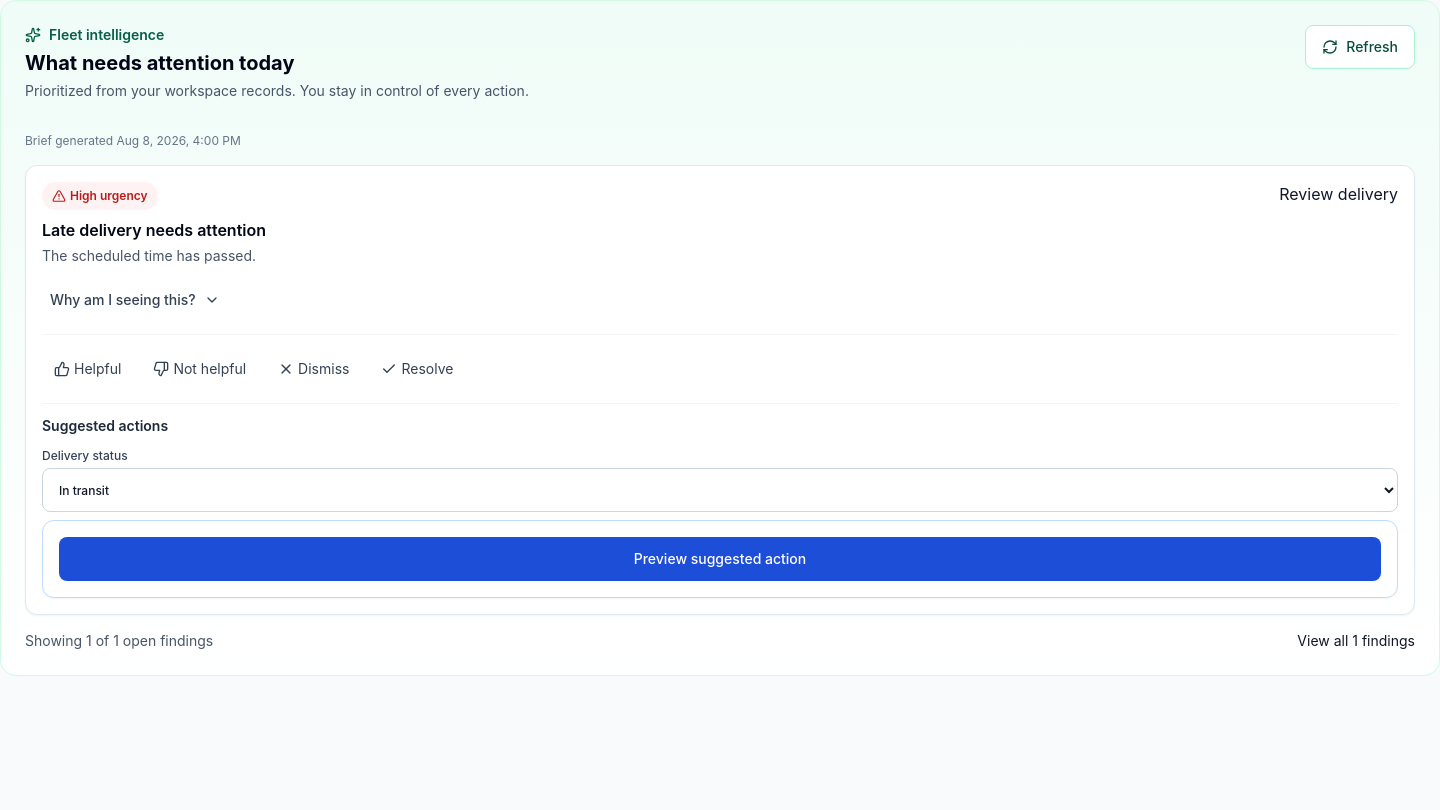
Test: IntelligenceBrief › records helpful feedback without duplicate actions
Click the button with aria-label "Mark Late delivery needs attention helpful": {"x": 88, "y": 369} x1=42 y1=347 x2=133 y2=391
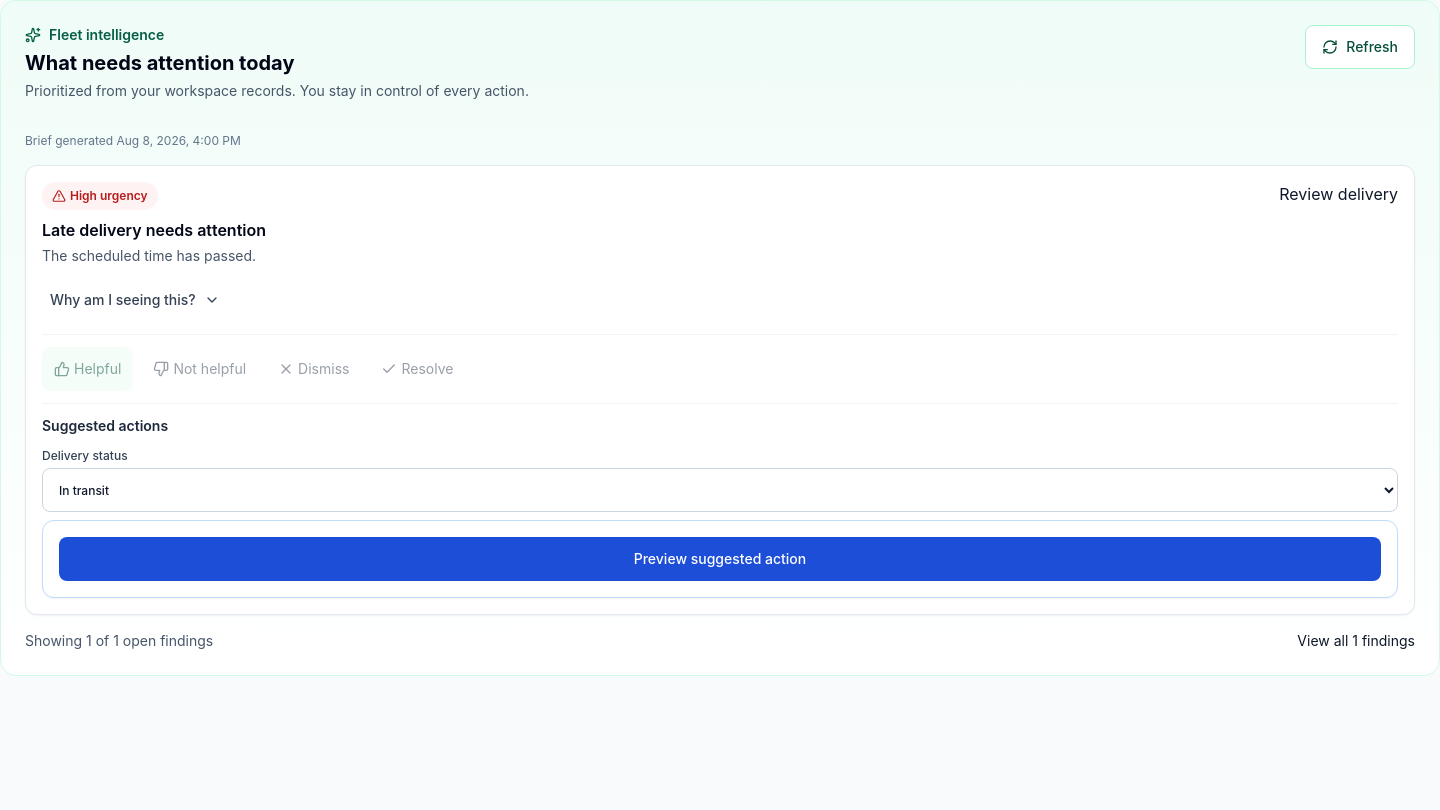
Expected: the button with aria-label "Mark Late delivery needs attention helpful" is disabled
Click the button with aria-label "Mark Late delivery needs attention helpful": {"x": 88, "y": 369} x1=42 y1=347 x2=133 y2=391
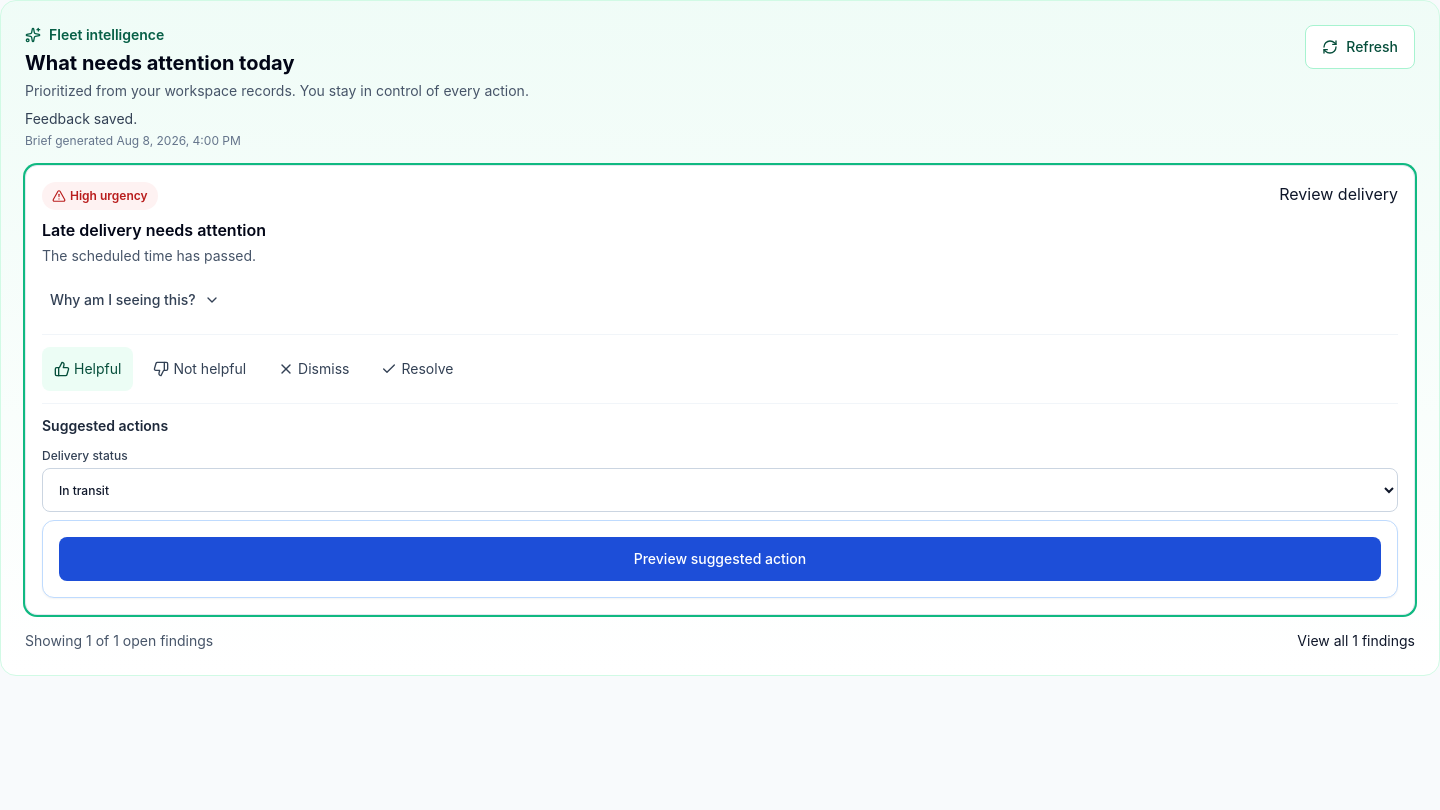
Expected: the text "Feedback saved." is shown, x1=25 y1=110 x2=137 y2=127
